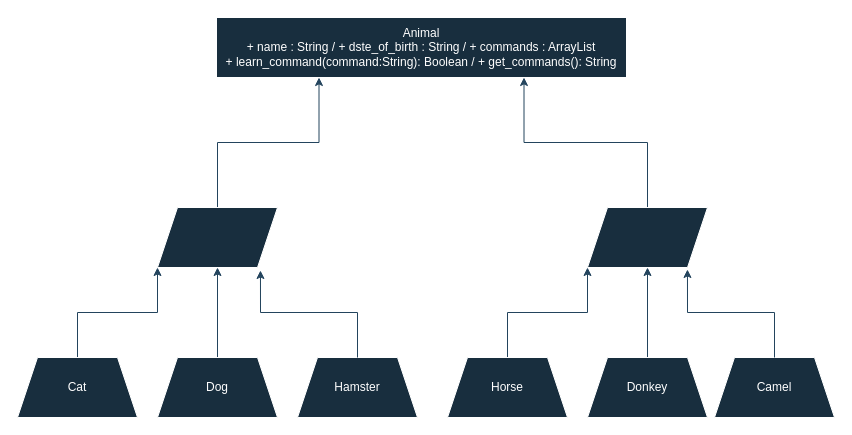
Some shapes in this 852 by 435 pixel diagram are drawn without their labels. Here are the shapes that lost their labels. From the top down, the centre of each, then its label:
point (217, 237): Pets
point (647, 237): PackAnimals
